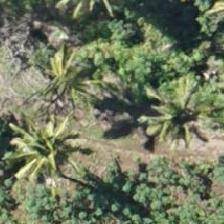coconut_tree: (122, 69, 212, 159), (20, 25, 110, 115), (0, 96, 83, 186)
